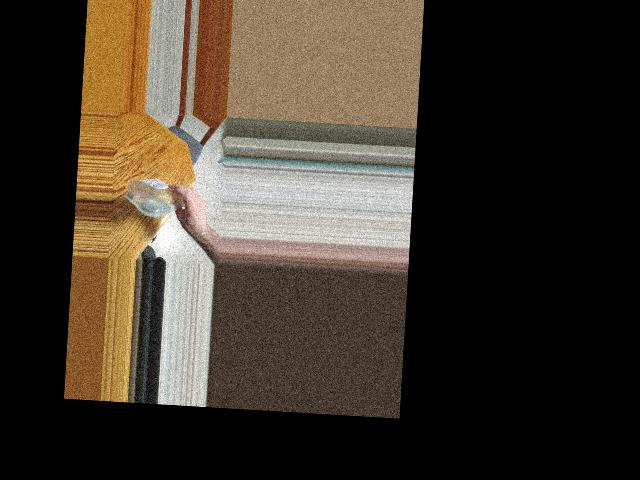cheese: (123, 175, 197, 216)
